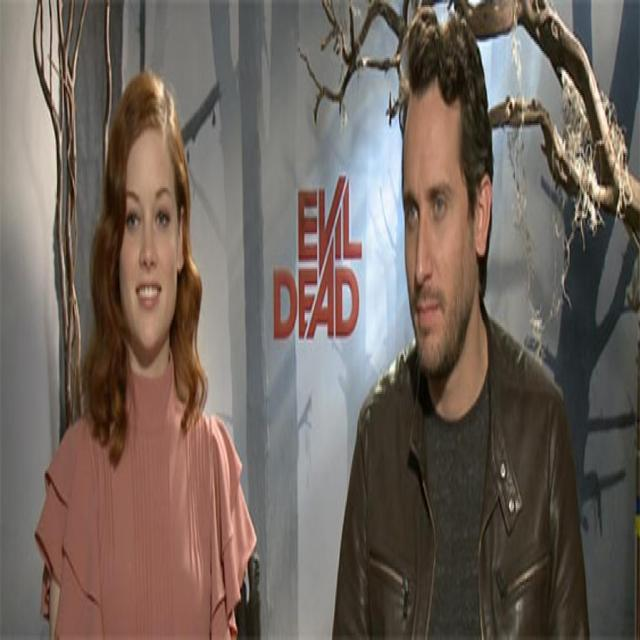nomask: (402, 84, 473, 373), (124, 120, 174, 348)
